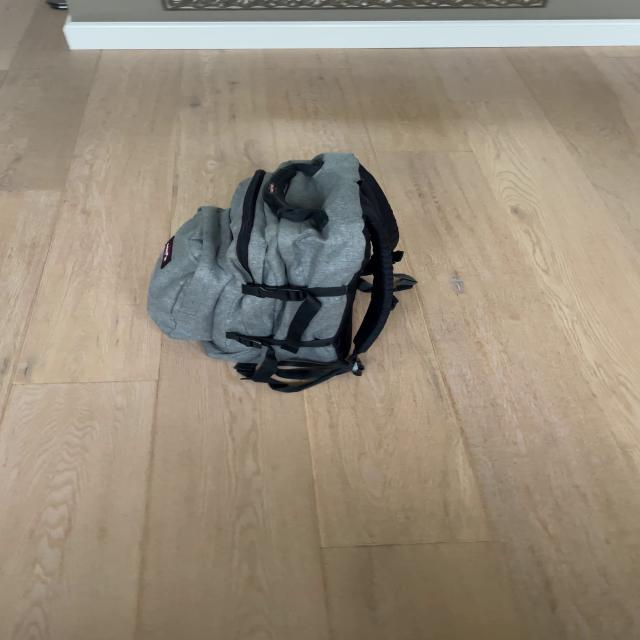backpack: (136, 142, 418, 399)
